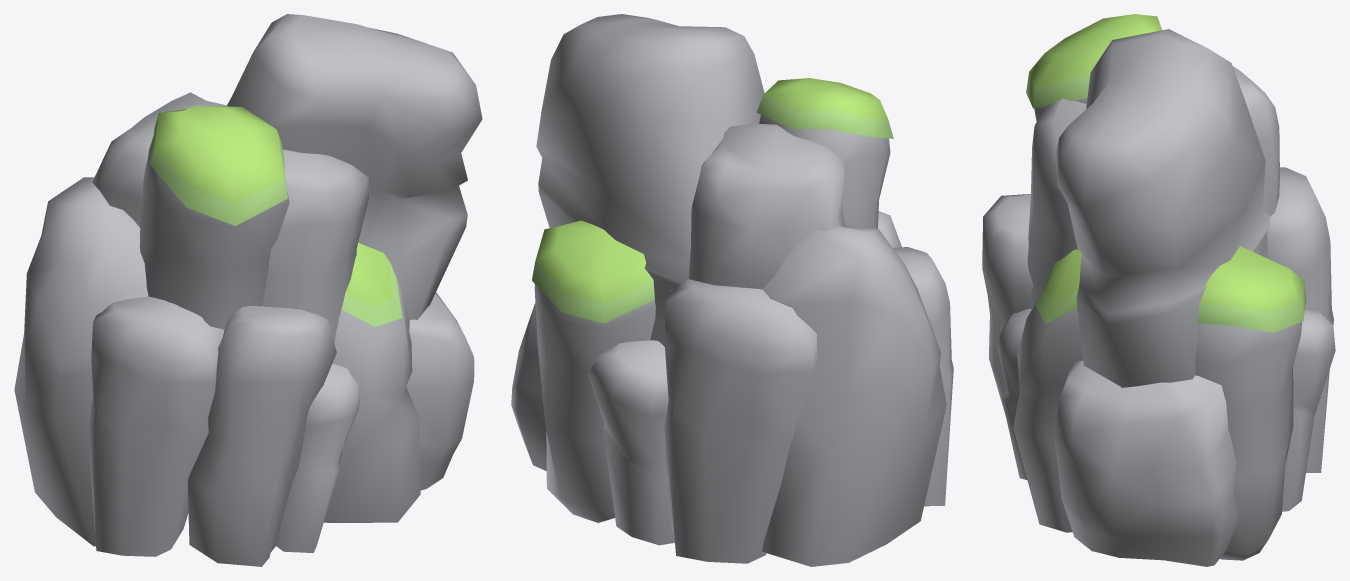
The model's file is mountain1.glb.
3 views of the same model, side by side, from view 1: azimuth 30°, elevation 25°; view 2: azimuth 150°, elevation 25°; view 3: azimuth 270°, elevation 25° (orthographic). The views are drawn at different scales.
Visible parts, largest first — view 1: mountain2; view 2: mountain2; view 3: mountain2.
Boxes of the visible parts, x1,y1,x2,y2 form: mountain2: [14, 14, 482, 566]; mountain2: [511, 14, 953, 566]; mountain2: [982, 14, 1335, 566].
Bounding box in the file's own units: 13.85 × 15.16 × 10.04.
